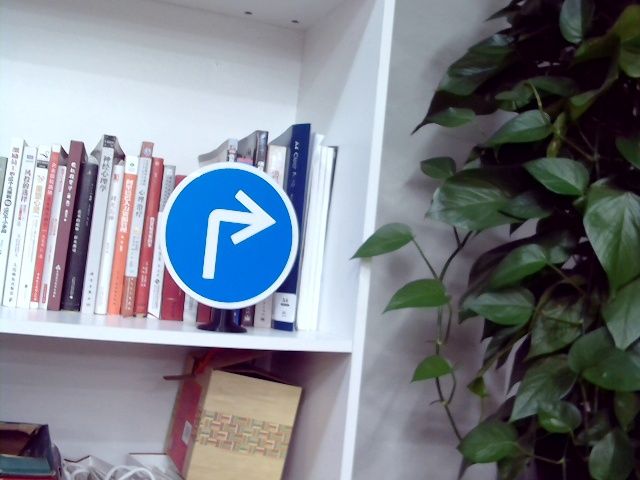turn_right: (199, 191, 272, 278)
